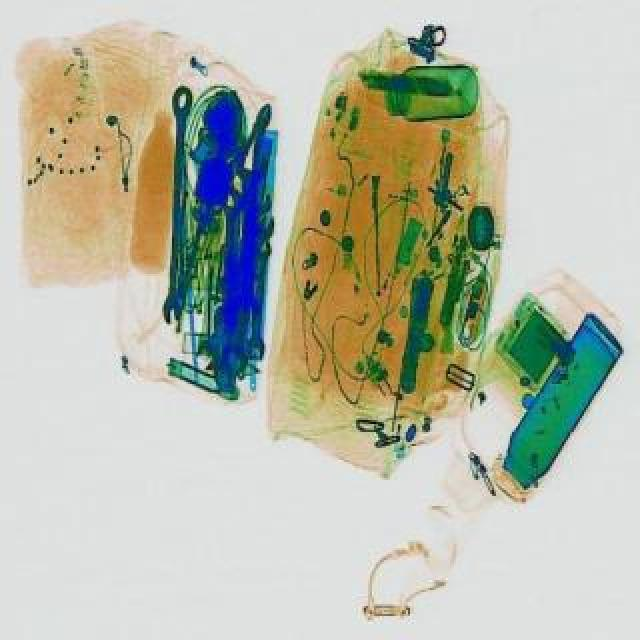scissors: (160, 84, 192, 322), (186, 286, 254, 370), (242, 240, 272, 356), (218, 298, 258, 378)
wrench: (232, 102, 276, 172)
